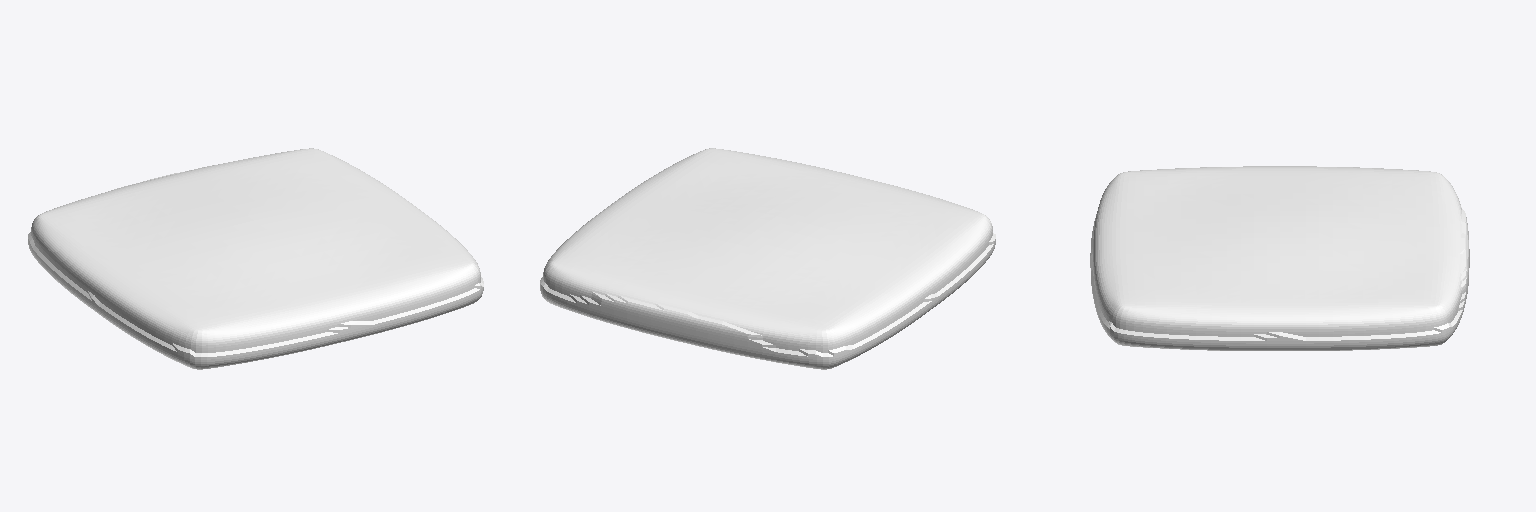
File: box_lid_red.obj
3 renders of one model, left to right at view 1: azimuth 30°, elevation 25°; view 2: azimuth 150°, elevation 25°; view 3: azimuth 270°, elevation 25°, orthographic.
Parts seen in each view (by area): view 1: 001_Cube.002; view 2: 001_Cube.002; view 3: 001_Cube.002.
Boxes of the visible parts, x1=… form: 001_Cube.002: x1=28, y1=148, x2=483, y2=369; 001_Cube.002: x1=540, y1=148, x2=995, y2=369; 001_Cube.002: x1=1090, y1=166, x2=1469, y2=350.
Bounding box in the file's own units: 0.4835 × 0.0664 × 0.4835.